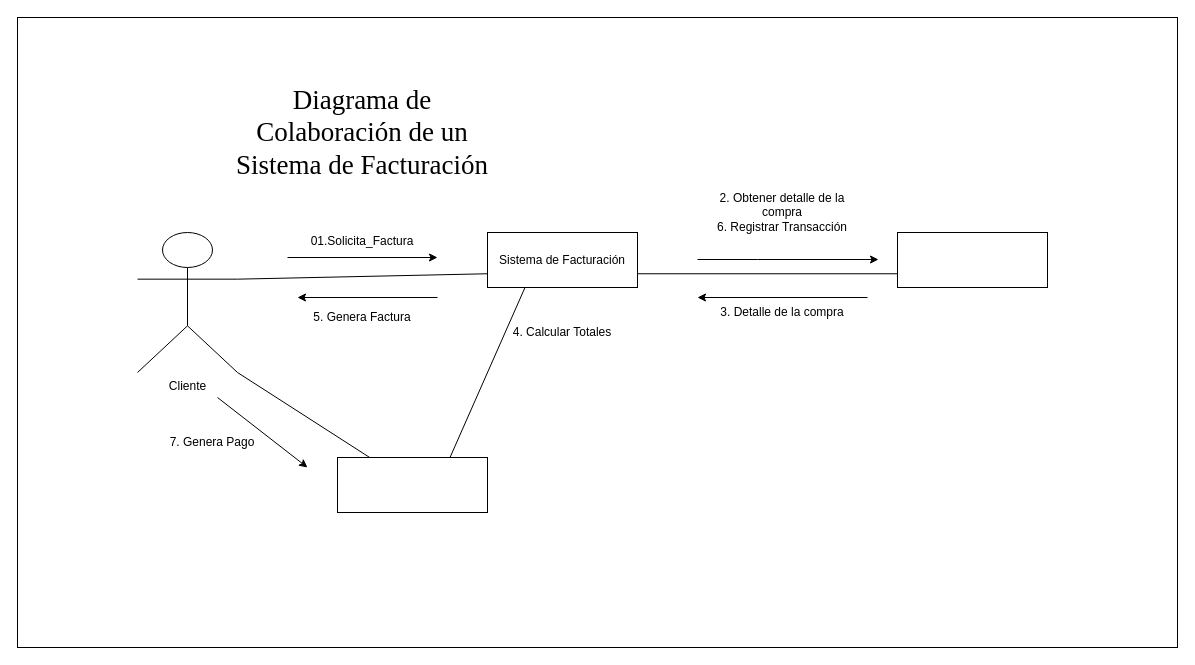
The diagram is 1195 pixels wide and 665 high, and some of its shapes have lost their labels. Each missing label, with the box of its shape:
Base de Datos: (896, 232, 1048, 288)
Procesador de Pagos: (336, 456, 488, 512)
